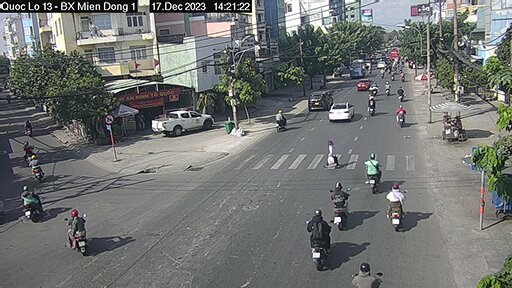car: (147, 113, 212, 130), (311, 92, 335, 110), (329, 104, 352, 119), (353, 79, 371, 91)
motorbike: (306, 212, 333, 274), (55, 213, 88, 257), (383, 185, 411, 231), (330, 182, 353, 231), (23, 188, 44, 219), (269, 109, 295, 133), (363, 158, 381, 191), (31, 156, 48, 183), (392, 103, 409, 128), (366, 92, 379, 117)
